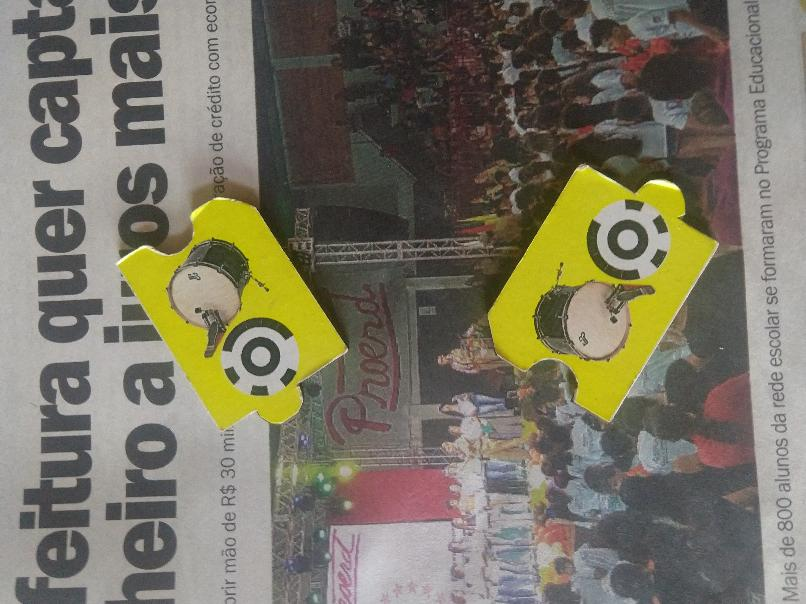bumbo: (488, 155, 721, 429), (115, 195, 350, 434)
